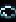lens: (0, 3, 16, 19)
